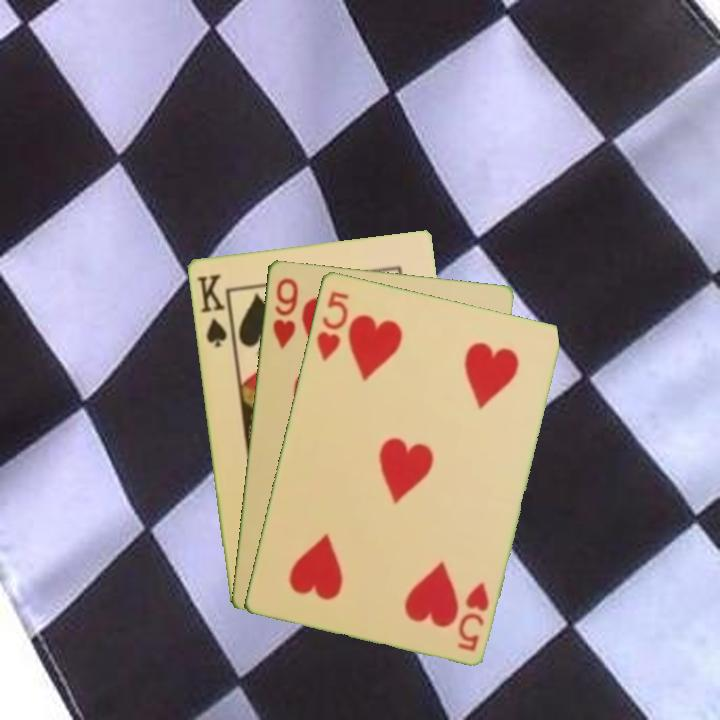5h: (312, 286, 352, 364), (454, 578, 492, 654)
9h: (268, 274, 301, 352)
Ks: (193, 270, 234, 349)
